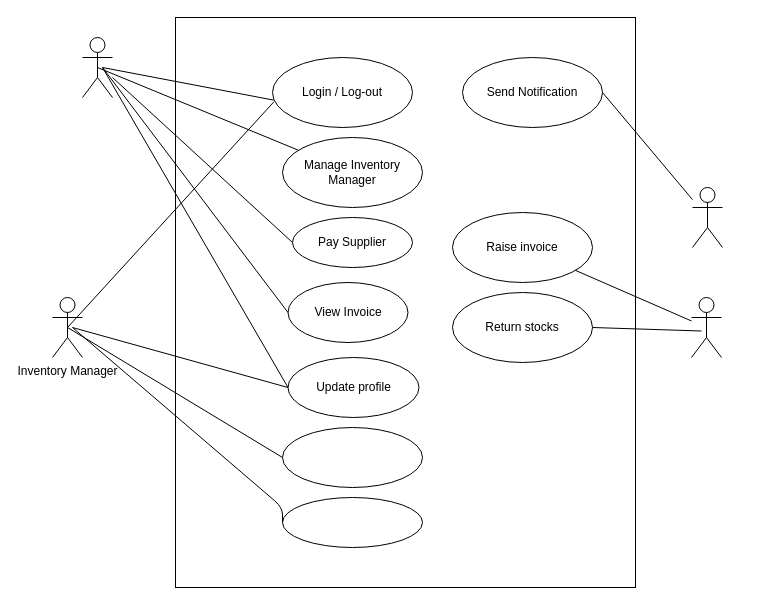
Image size: 774x605. Some labels were removed from this diagram. Each missing label, with the centre of its shape:
Admin: the point at 97,67
Manage Order: the point at 352,522
NotificationService: the point at 707,217
Place Order: the point at 352,457
Supplier: the point at 706,327
